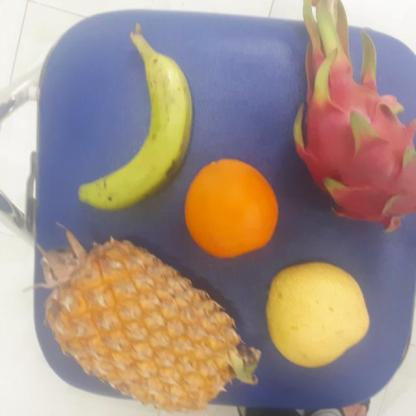banana: (90, 39, 191, 205)
orange: (181, 154, 283, 260)
pear: (262, 263, 370, 367)
pineapple: (36, 238, 240, 413)
pitaya: (288, 43, 416, 236)
